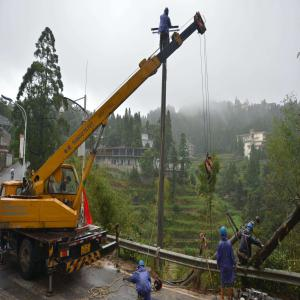blue: (220, 226, 228, 240), (138, 259, 146, 272), (248, 224, 254, 235), (164, 8, 170, 17)
none: (66, 176, 72, 187)
